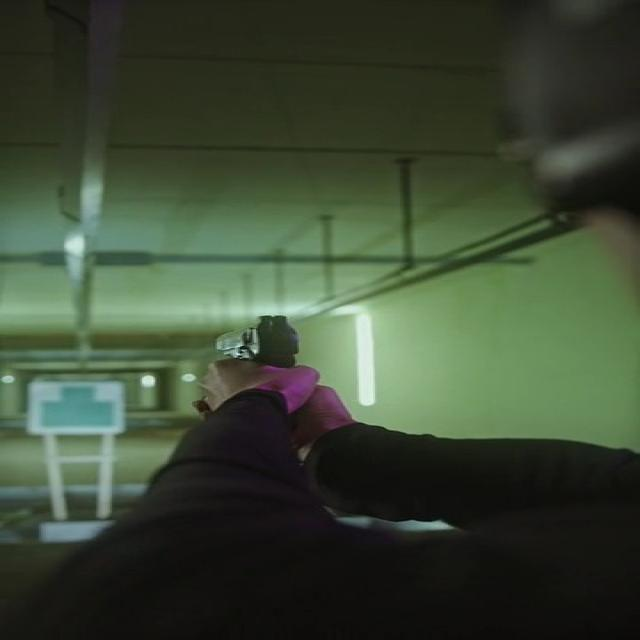Gun_Holder: (163, 314, 377, 446)
